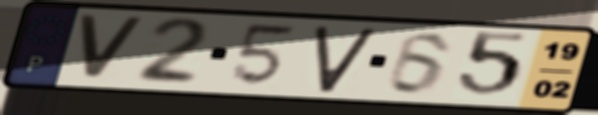2: (135, 15, 214, 87)
5: (453, 30, 533, 104), (226, 21, 301, 90)
6: (383, 31, 457, 96)
V: (75, 12, 149, 83), (311, 25, 381, 95)
